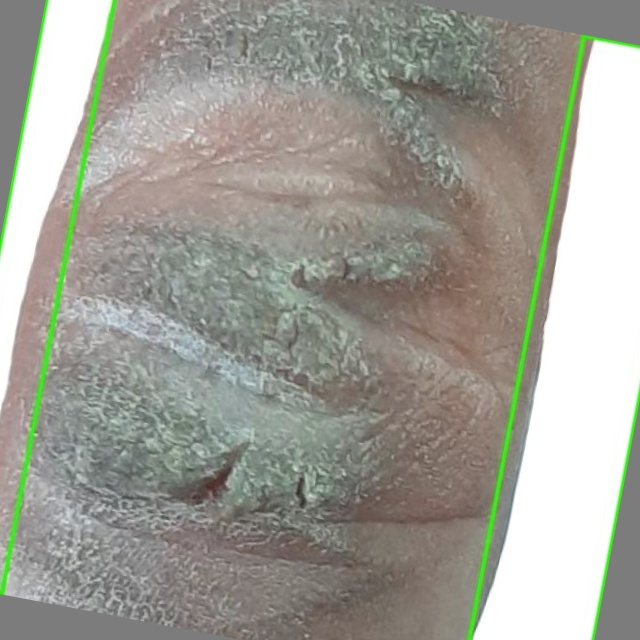Contact Dermatitis: (469, 35, 639, 639), (0, 0, 114, 593)
